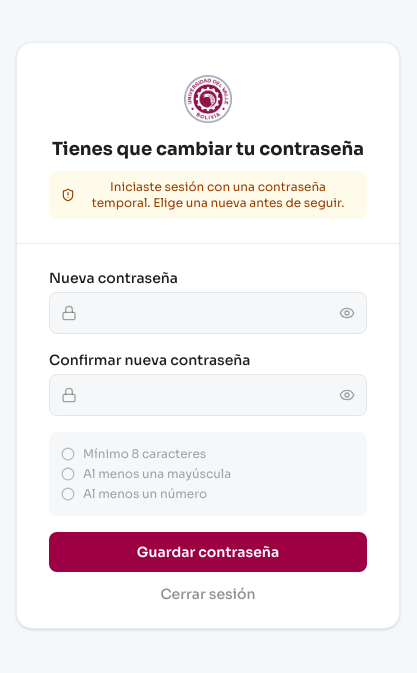
Test case: CambiarContrasenaObligatoriaPage › muestra el error del servidor
Type "ContrasenaSegura1" into the password field labelled "Nueva contraseña".
click(208, 312); type("ContrasenaSegura1")  # box [49, 292, 367, 334]
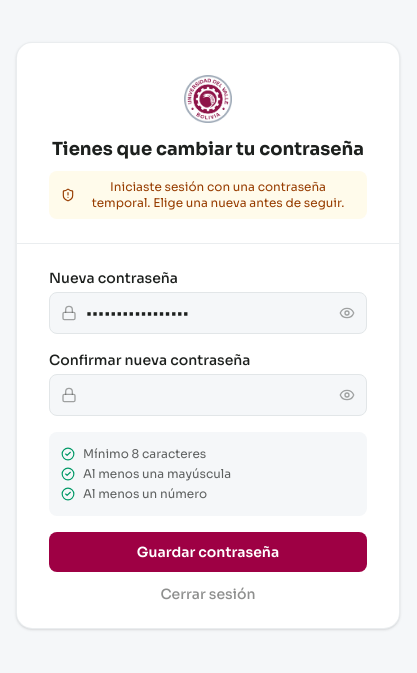
Type "ContrasenaSegura1" into the password field labelled "Confirmar nueva contraseña".
click(208, 394); type("ContrasenaSegura1")  # box [49, 374, 367, 416]
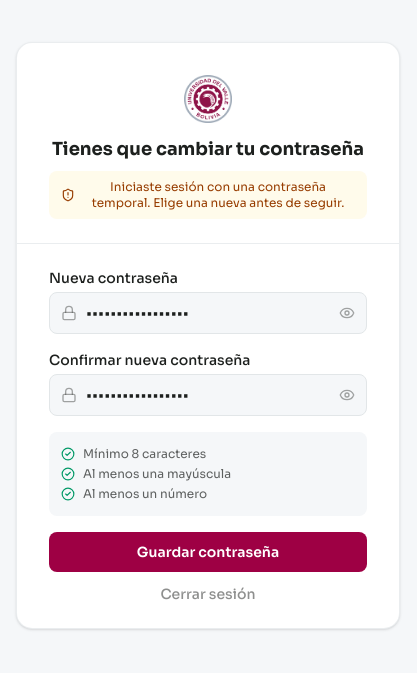
Click the button "Guardar contraseña".
click(208, 552)  # box [49, 532, 367, 572]
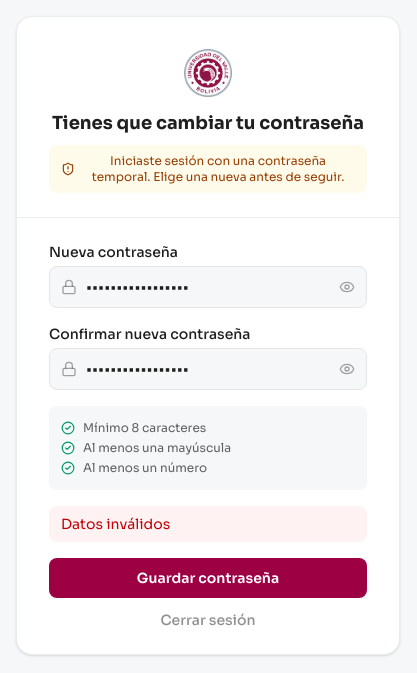
Result: the text "Datos inválidos" is shown at [49, 506, 367, 542]
